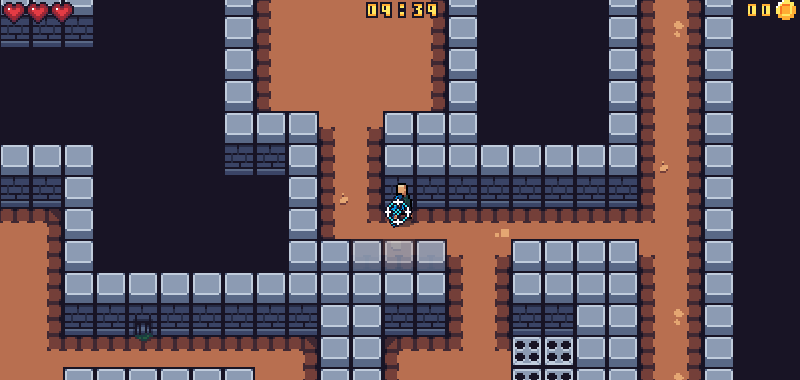trap_off: (512, 335, 571, 379)
